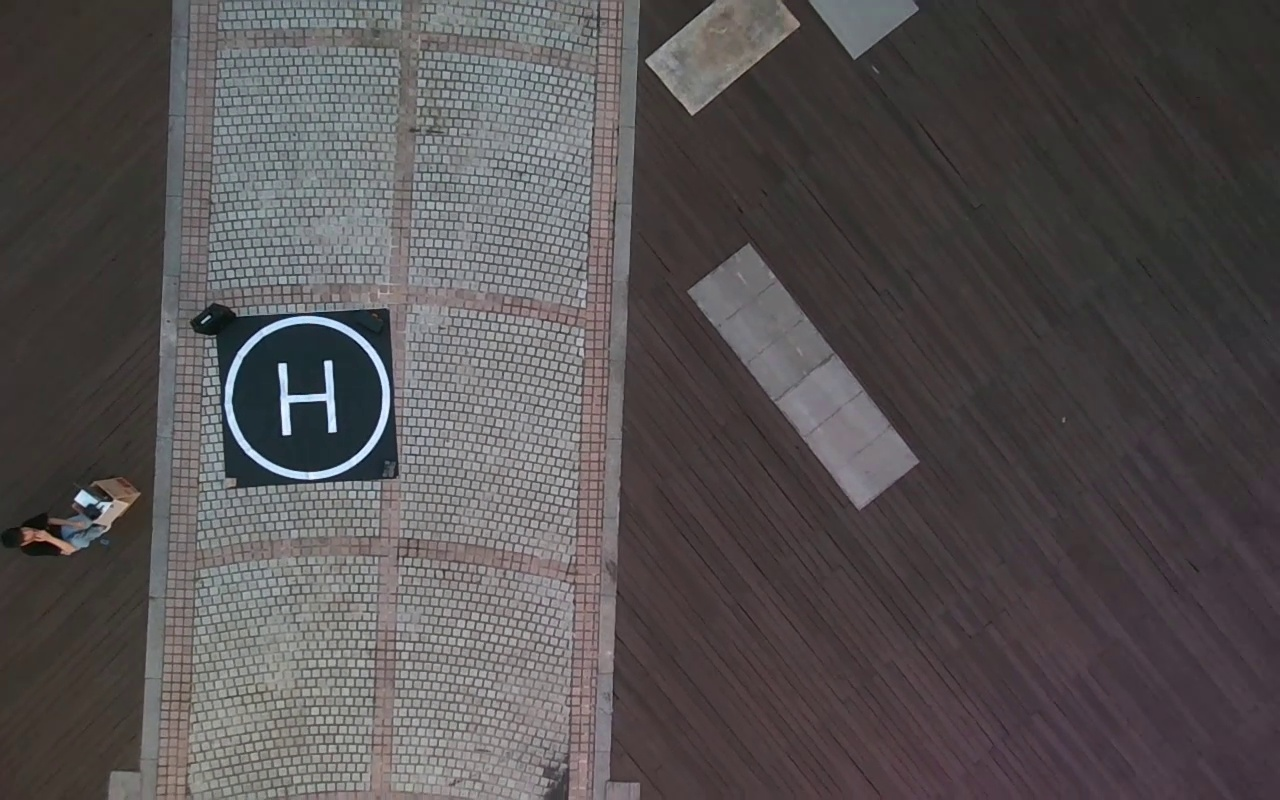H: (277, 360, 339, 436)
heliport: (226, 314, 391, 480)
